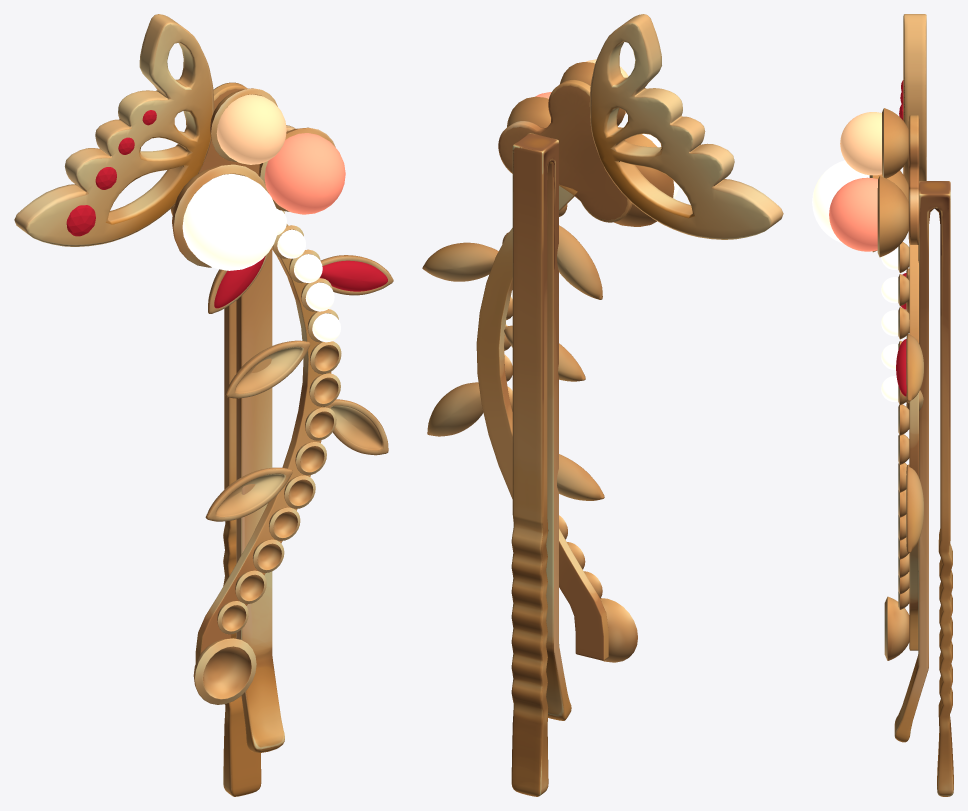
3 views of the same model, side by side, from view 1: azimuth 30°, elevation 25°; view 2: azimuth 150°, elevation 25°; view 3: azimuth 270°, elevation 25° (orthographic). The views are drawn at different scales.
Visible parts, largest first — view 1: hairakuse; view 2: hairakuse; view 3: hairakuse.
Boxes of the visible parts, x1,y1,x2,y2 form: hairakuse: (14,14,393,796); hairakuse: (422,14,783,796); hairakuse: (812,14,953,796).
Bounding box in the file's own units: 72.64 × 152 × 26.6.
